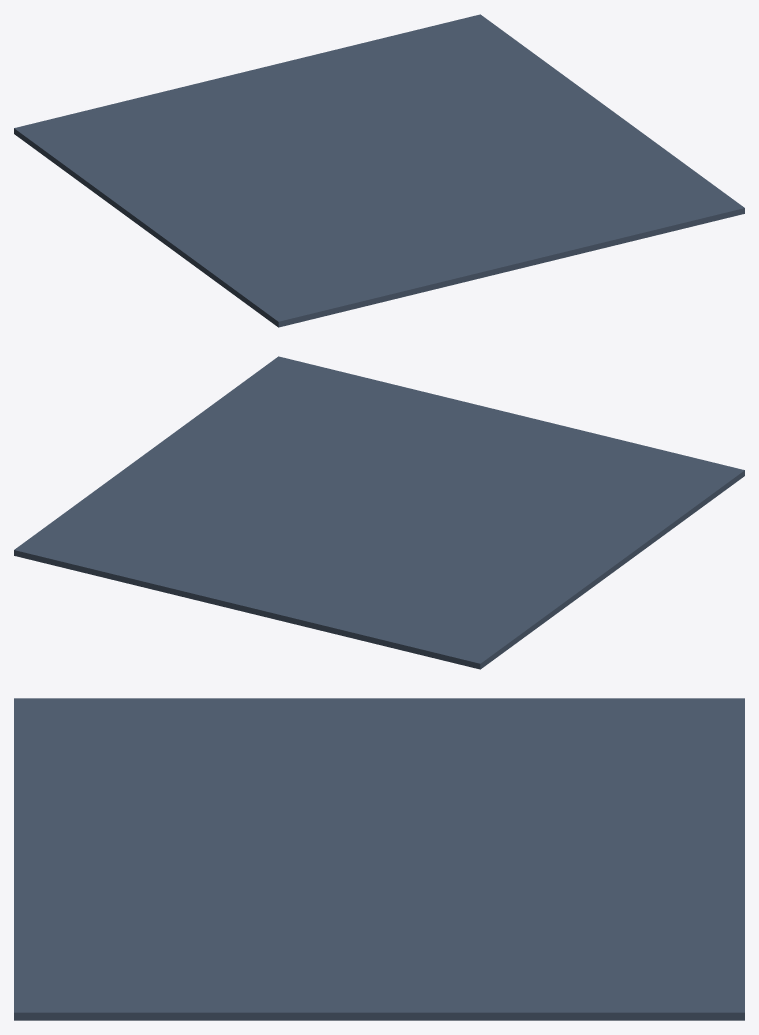
File: floor_002_f_45189f9f4d.obj
The picture shows the model from 3 angles, top to bottom: view 1: azimuth 30°, elevation 25°; view 2: azimuth 150°, elevation 25°; view 3: azimuth 270°, elevation 25°; orthographic projection. The views are drawn at different scales.
Parts seen in each view (by area): view 1: Floor_002_f_45189f9f4d; view 2: Floor_002_f_45189f9f4d; view 3: Floor_002_f_45189f9f4d.
Part boxes in pixels (x1,y1,x2,y2): Floor_002_f_45189f9f4d: (14, 14, 744, 327); Floor_002_f_45189f9f4d: (14, 356, 744, 669); Floor_002_f_45189f9f4d: (14, 698, 744, 1020).
Size of the model in its own units: 16.8 by 0.2 by 16.5.
